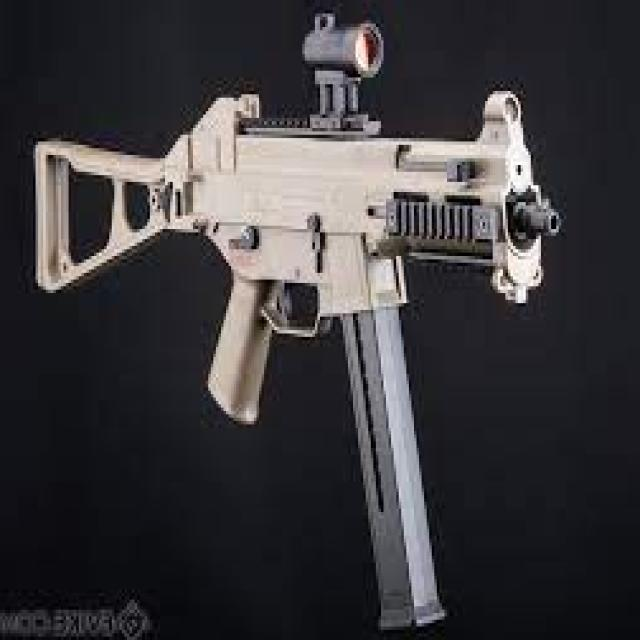Gun: (19, 17, 588, 627)
